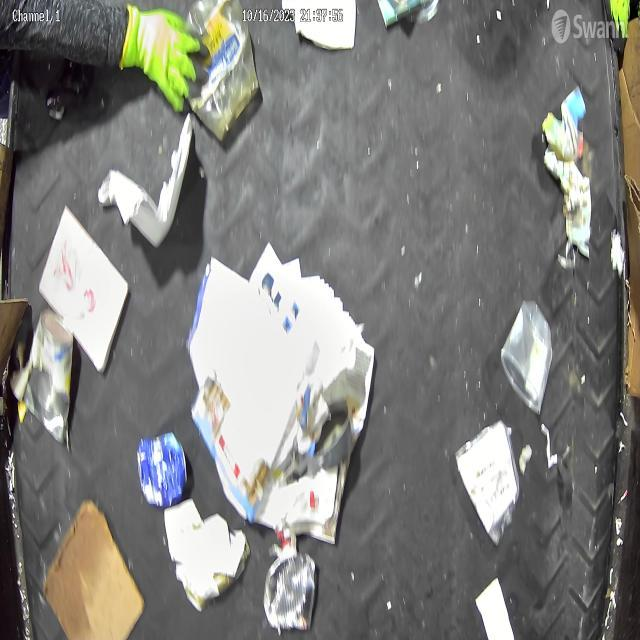can: (23, 307, 74, 446), (262, 548, 318, 632), (137, 431, 189, 508), (313, 398, 354, 470)
